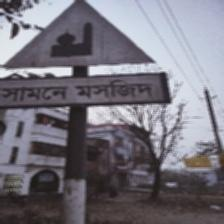Mosque in front: (1, 0, 164, 107)
